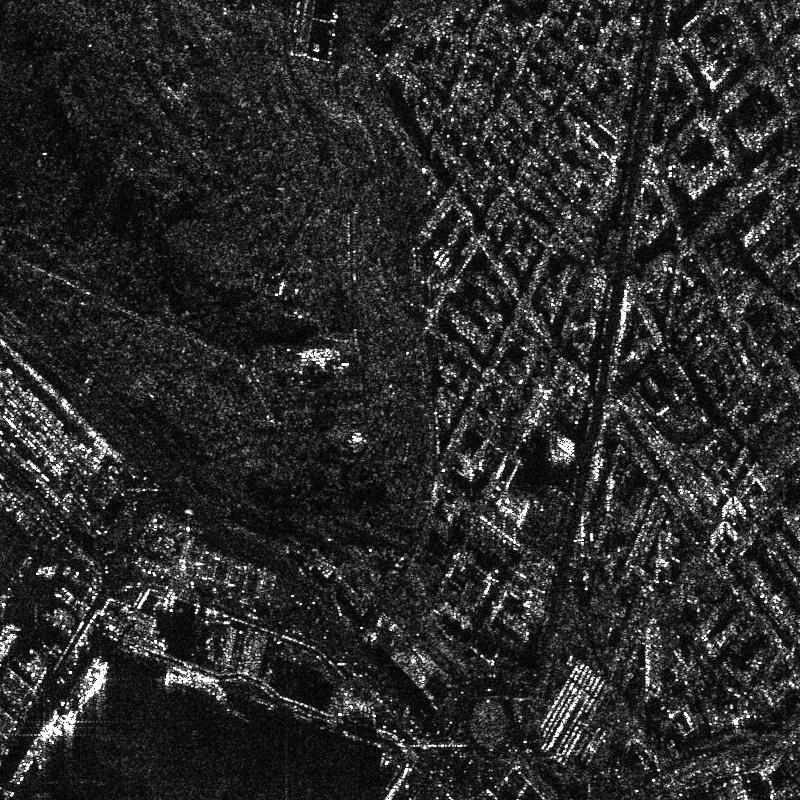ship: (165, 671, 228, 700), (64, 711, 76, 735)
